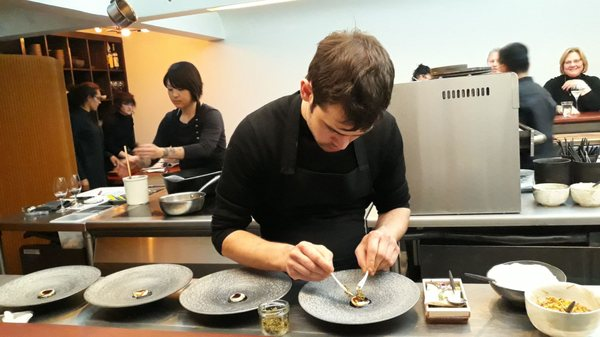pizza: (259, 299, 290, 336), (122, 175, 150, 206)
salad: (351, 270, 372, 307)
sandwich: (330, 270, 356, 303)
sushi: (523, 281, 600, 336), (486, 259, 567, 308), (159, 192, 205, 216), (533, 183, 570, 206)
